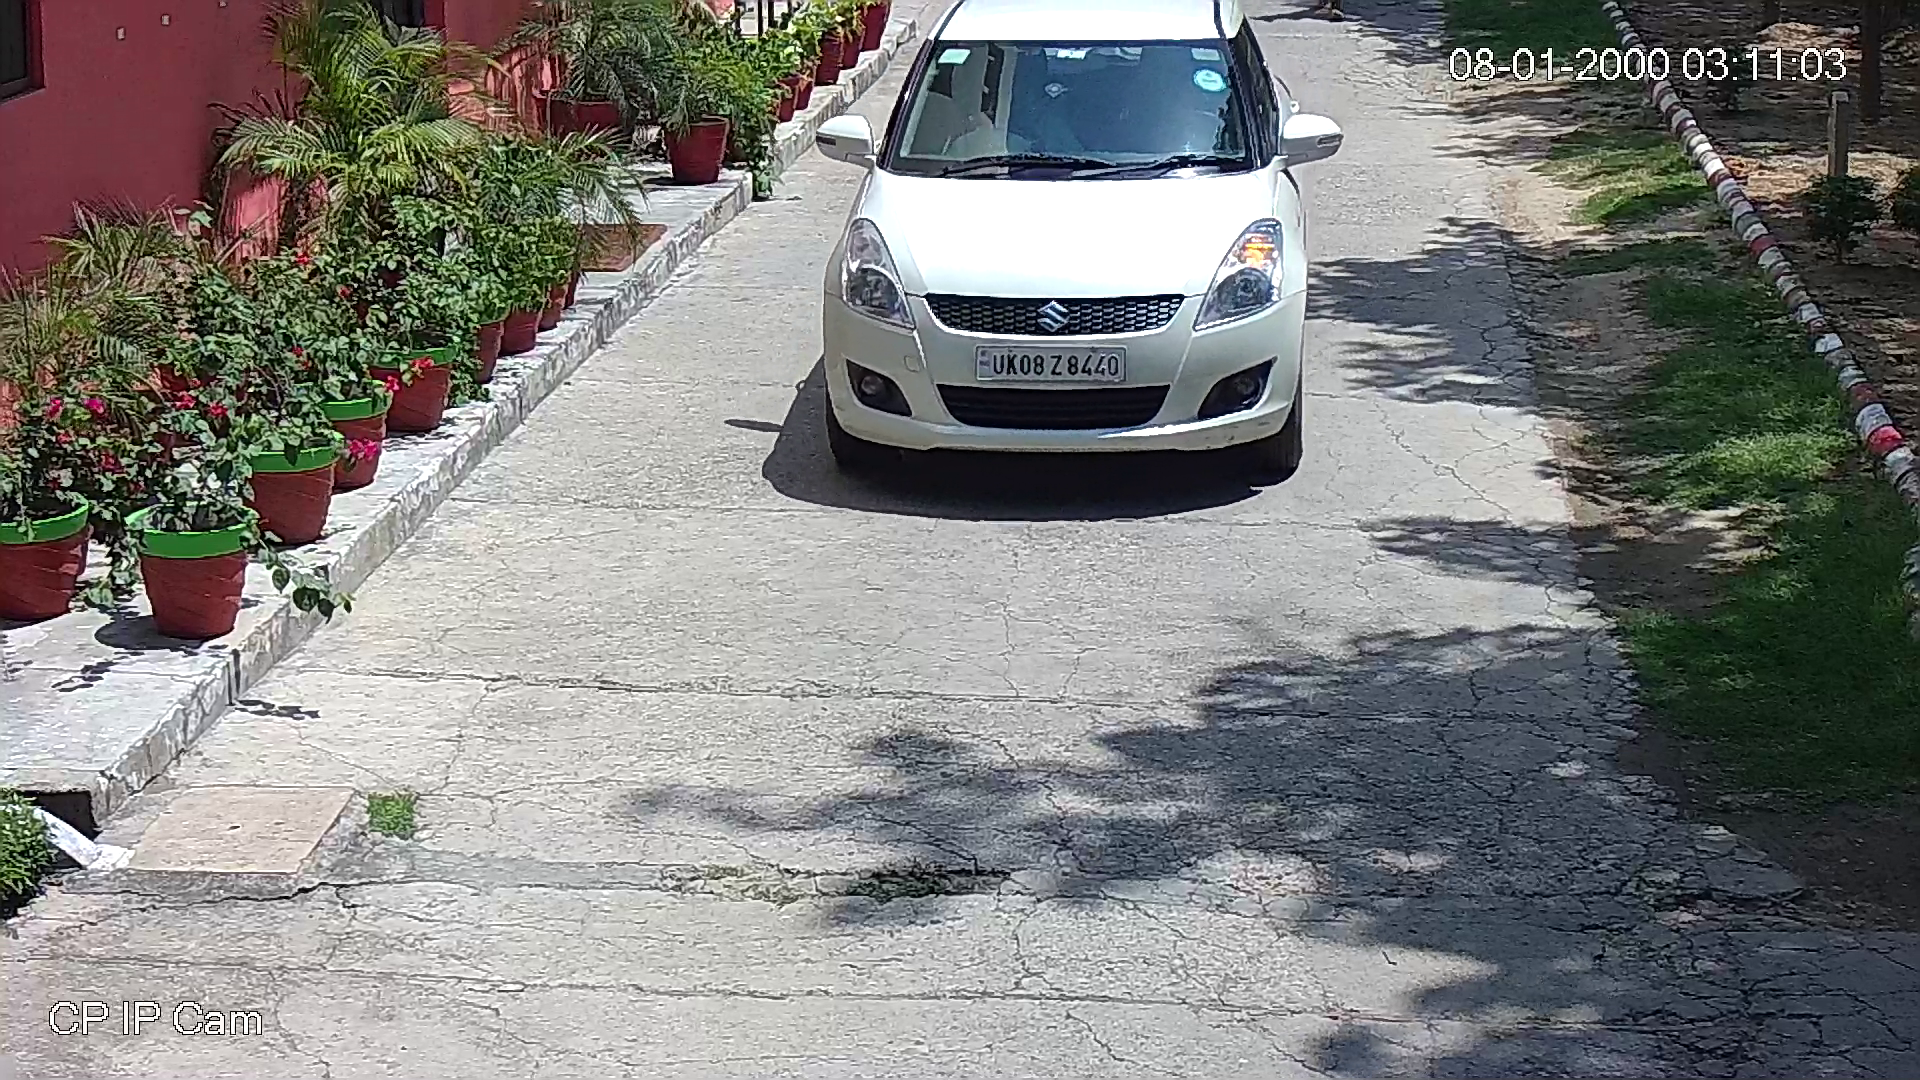plate: (969, 340, 1128, 388)
